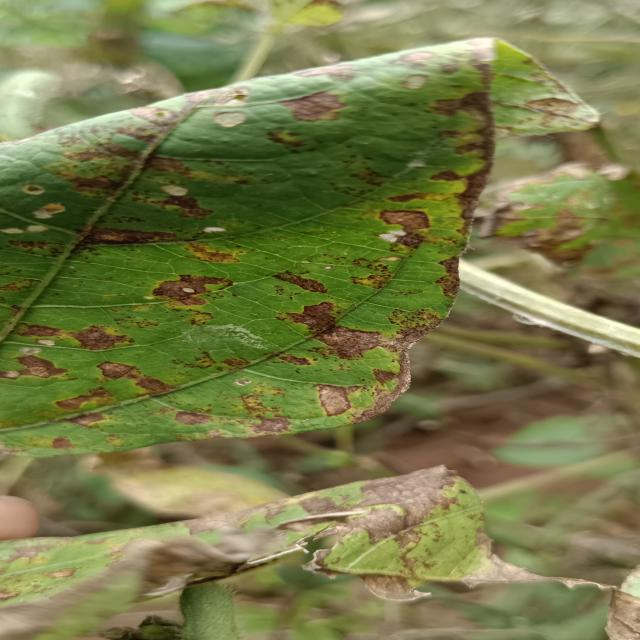Black gram_leaf spot: (0, 21, 607, 467)
